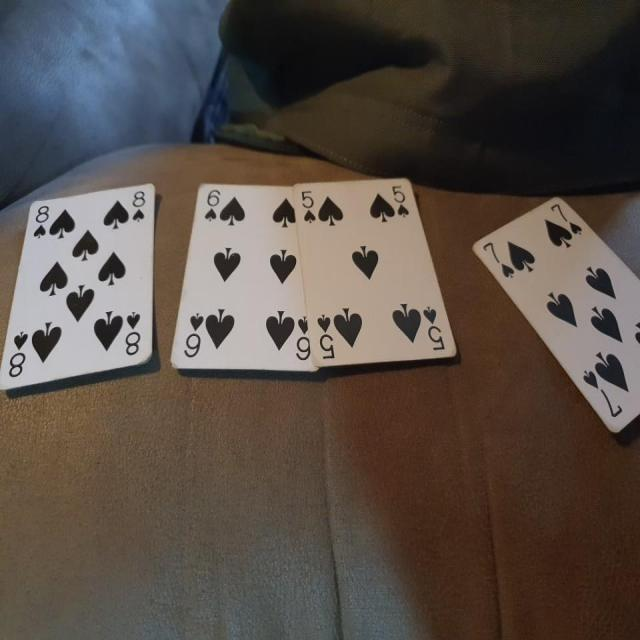5 of spades: (296, 170, 464, 385)
6 of spades: (160, 172, 318, 384)
7 of spades: (465, 188, 640, 434)
8 of spades: (0, 184, 164, 398)
